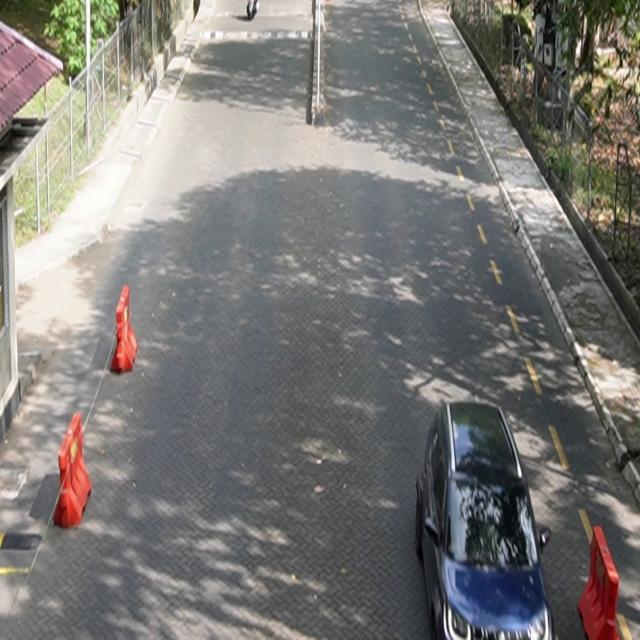car: (416, 401, 556, 640)
